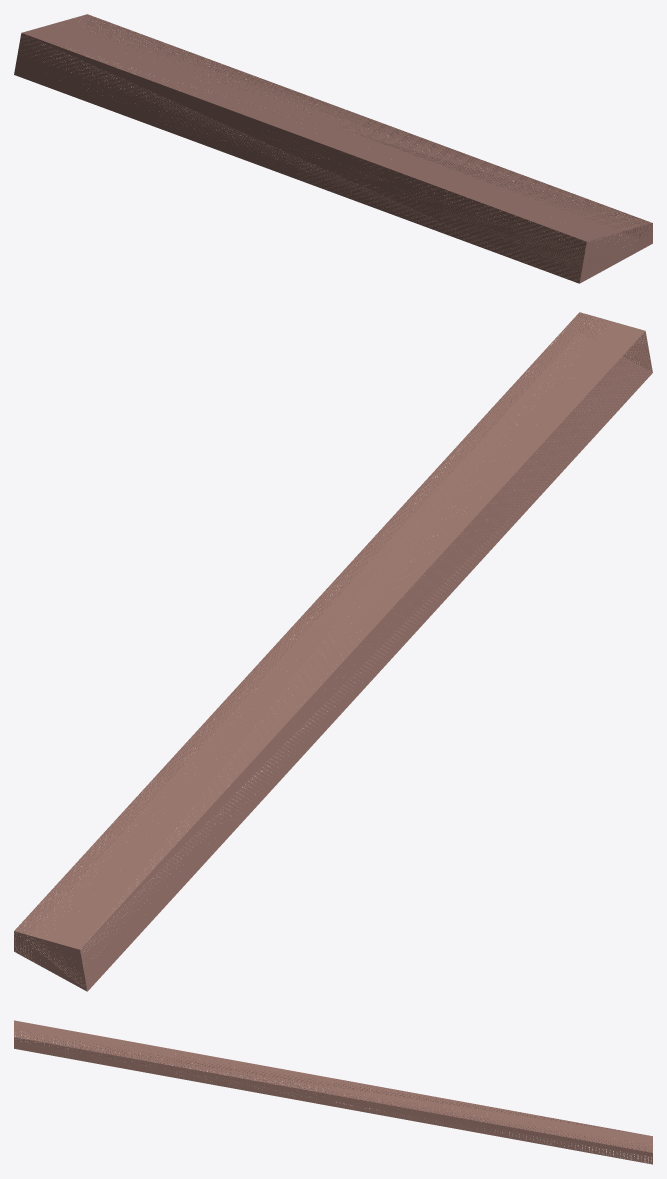
The model's file is SW_ENV_EL_TrackBase_Walkway_Rise_Side_20m_Collision.fbx.
3 renders of one model, top to bottom at view 1: azimuth 30°, elevation 25°; view 2: azimuth 150°, elevation 25°; view 3: azimuth 270°, elevation 25°, orthographic. The views are drawn at different scales.
Visible parts, largest first — view 1: SW_ENV_EL_TrackBase_Walkway_Rise_Side_20m_Collision; view 2: SW_ENV_EL_TrackBase_Walkway_Rise_Side_20m_Collision; view 3: SW_ENV_EL_TrackBase_Walkway_Rise_Side_20m_Collision.
Boxes of the visible parts, left/top/right/bottom form: SW_ENV_EL_TrackBase_Walkway_Rise_Side_20m_Collision: left=14, top=14, right=652, bottom=283; SW_ENV_EL_TrackBase_Walkway_Rise_Side_20m_Collision: left=14, top=312, right=652, bottom=991; SW_ENV_EL_TrackBase_Walkway_Rise_Side_20m_Collision: left=14, top=1020, right=652, bottom=1164.
Bounding box in the file's own units: 150 × 483 × 2000.
